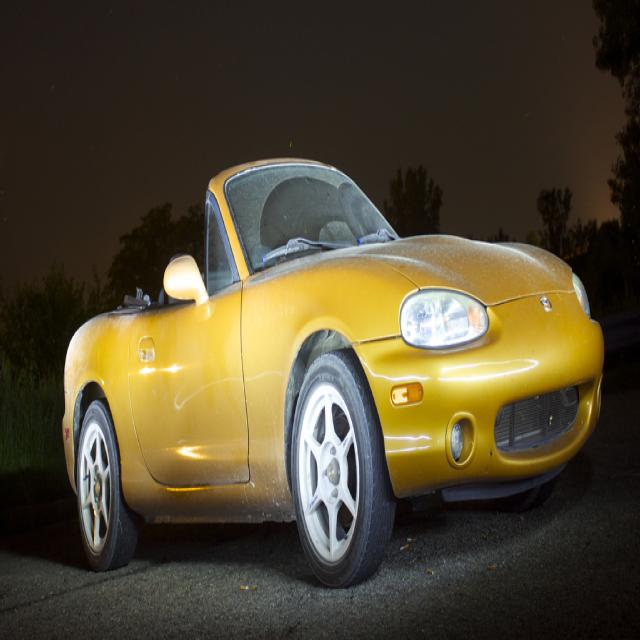Car: (62, 157, 604, 588)
